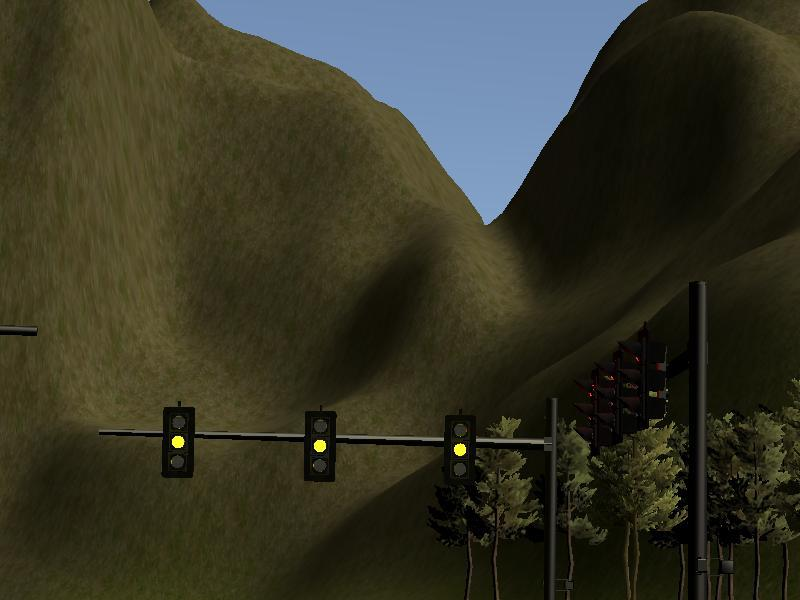Yellow: (161, 406, 194, 478), (304, 411, 336, 482), (445, 416, 475, 483)
